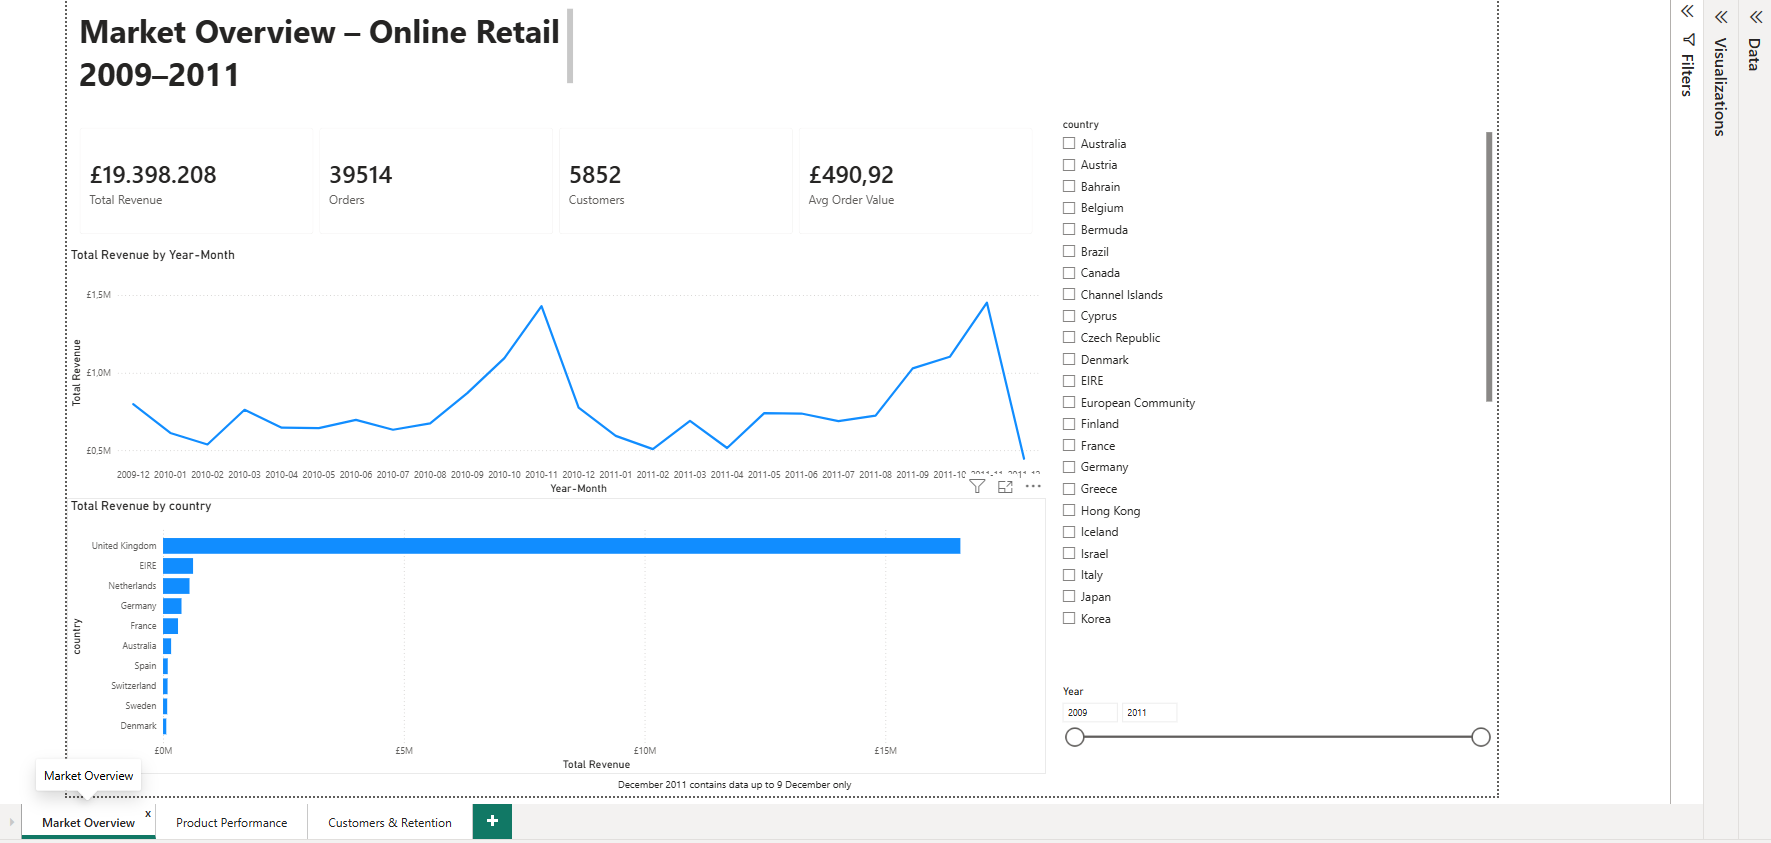

The dashboard page shown, as its layout file describes it:
{"tool":"powerbi","page":{"name":"Market Overview","canvas":[1920,1080],"ordinal":0},"visuals":[{"type":"cardVisual","fields":{"Data":["transactions.Total Revenue","transactions.Orders","transactions.Customers","transactions.Avg Order Value"]},"box":[0,164.9,1314.5,178],"z":0},{"type":"textbox","box":[10.2,17.5,674,116.7],"z":1},{"type":"lineChart","fields":{"Category":["Dates.Year-Month"],"Y":["transactions.Total Revenue"]},"box":[0,342.9,1314.5,337],"z":2},{"type":"clusteredBarChart","fields":{"Category":["transactions.country"],"Y":["transactions.Total Revenue"]},"box":[0,679.9,1314.5,370.6],"z":3},{"type":"slicer","fields":{"Values":["transactions.country"]},"box":[1324.7,164.9,595.3,700.3],"z":4},{"type":"slicer","fields":{"Values":["Dates.Year"]},"box":[1324.7,926.4,595.3,153.2],"z":5},{"type":"textbox","box":[735.3,1050.5,812.6,29.2],"z":6}]}

Visuals, with their boxes on the page's 1920x1080 design canvas (x1, y1, x2, y2). These are canvas units, not pixel positions in the 1771x843 screenshot, which may show the page scaled, cropped or inside an application window:
cardVisual - transactions.Total Revenue x transactions.Orders: detection(0, 165, 1314, 343)
textbox: detection(10, 18, 684, 134)
lineChart - Dates.Year-Month x transactions.Total Revenue: detection(0, 343, 1314, 680)
clusteredBarChart - transactions.country x transactions.Total Revenue: detection(0, 680, 1314, 1050)
slicer - transactions.country: detection(1325, 165, 1920, 865)
slicer - Dates.Year: detection(1325, 926, 1920, 1080)
textbox: detection(735, 1050, 1548, 1080)
